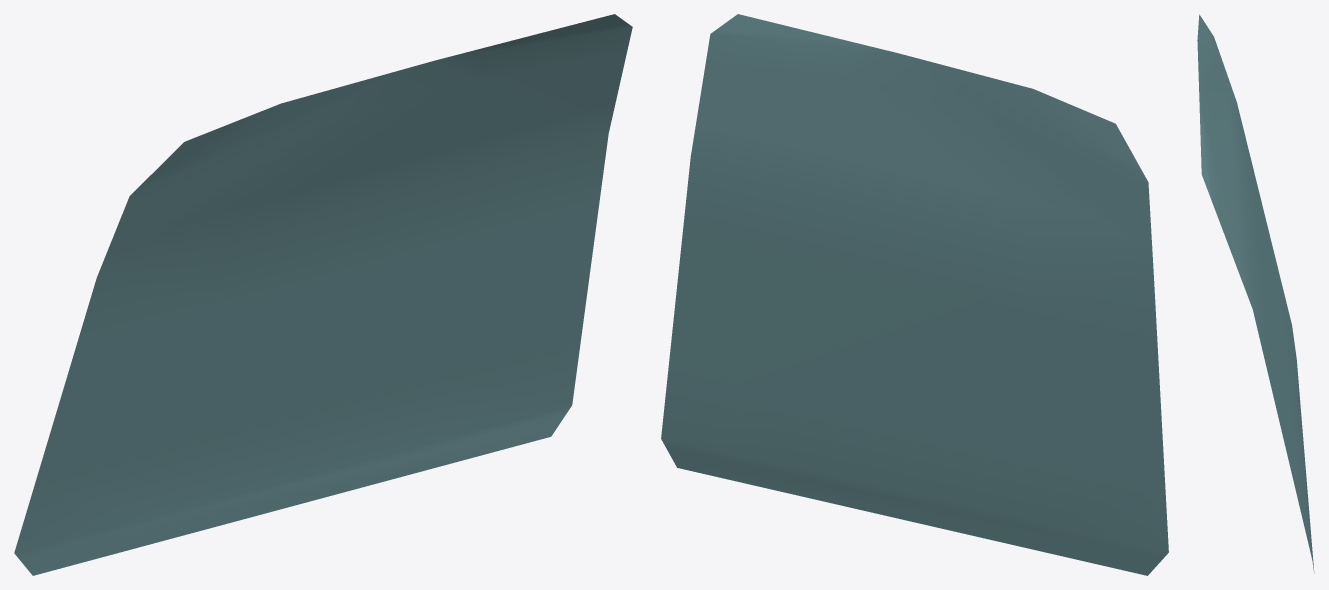
The model's file is VAN_1_Window_RR_Tessellate 1.fbx.
3 renders of one model, left to right at view 1: azimuth 30°, elevation 25°; view 2: azimuth 150°, elevation 25°; view 3: azimuth 270°, elevation 25°, orthographic. The views are drawn at different scales.
Parts seen in each view (by area): view 1: VAN_1_Window_RR_Tessellate; view 2: VAN_1_Window_RR_Tessellate; view 3: VAN_1_Window_RR_Tessellate.
Boxes of the visible parts, <box> form: VAN_1_Window_RR_Tessellate: <box>14,14,632,575</box>; VAN_1_Window_RR_Tessellate: <box>661,14,1168,575</box>; VAN_1_Window_RR_Tessellate: <box>1197,14,1314,572</box>.
Size of the model in its own units: 29.54 by 23.42 by 6.18.
